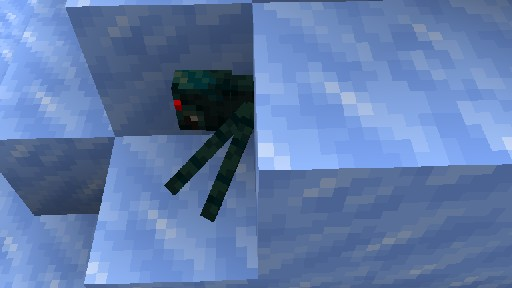cave_spider: (163, 43, 363, 225)
